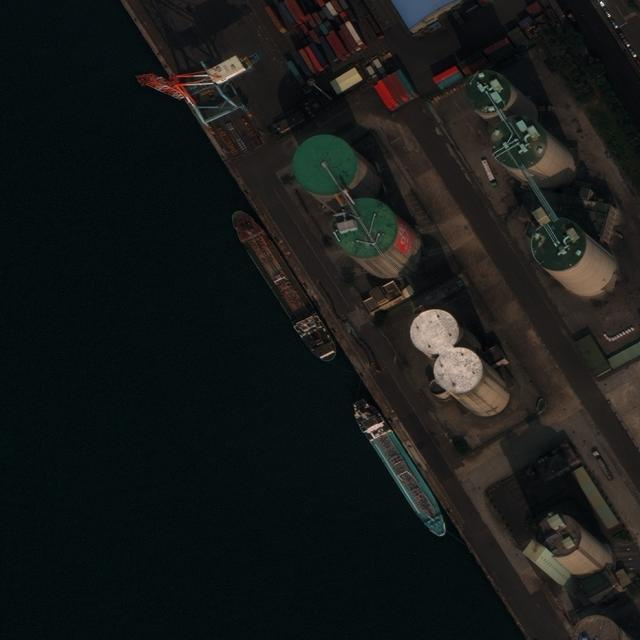Oil Tanker: (224, 204, 344, 367), (346, 393, 454, 544)
